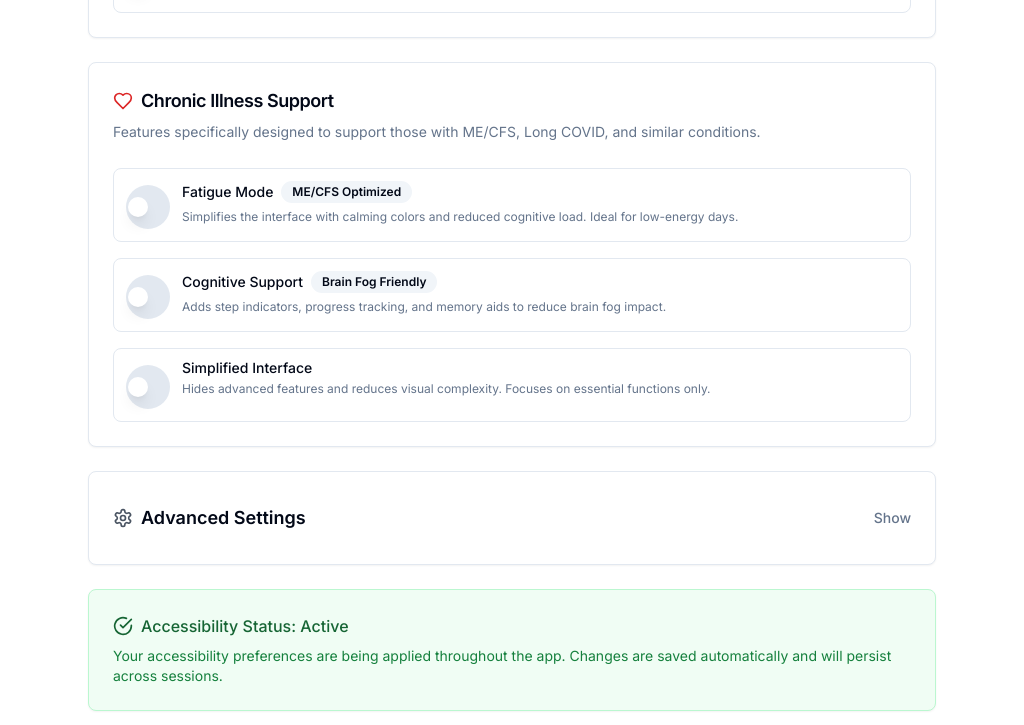
Scenario: AccessibilitySettings › shows advanced settings when toggled
This screenshot has width=1024, height=725.
(page scrolled)
Step 1. Click the button "Advanced Settings Show" → (223, 518), box [113,496,911,540]
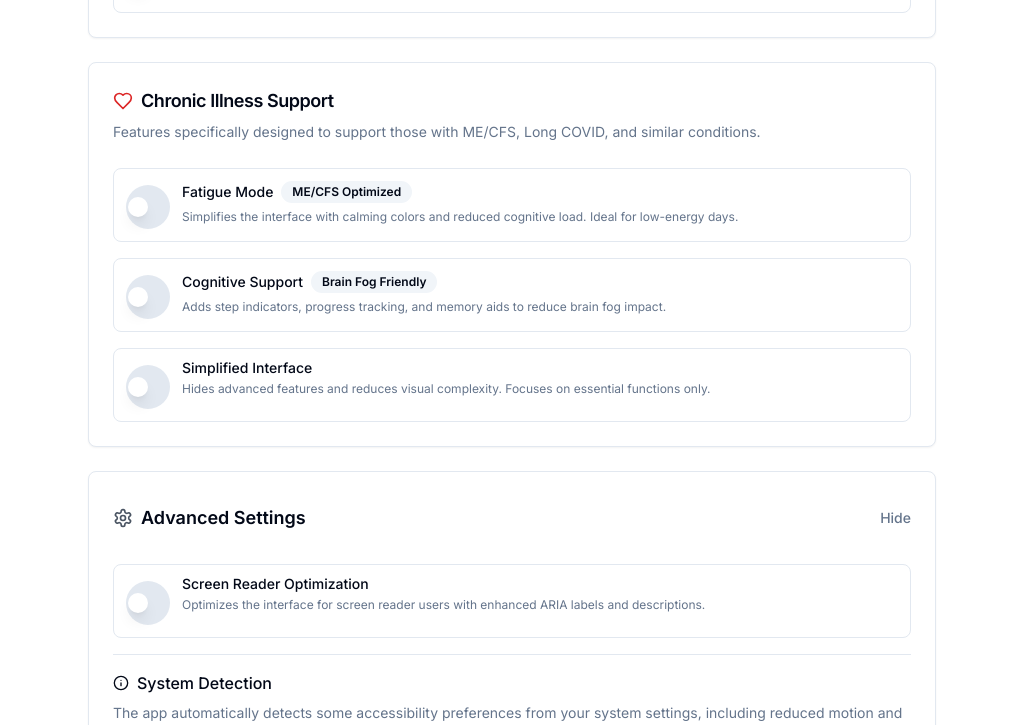
Check: the text "Screen Reader Optimization" is shown, box [182,577,369,591]
Check: the heading "System Detection" is shown, box [113,673,272,693]
